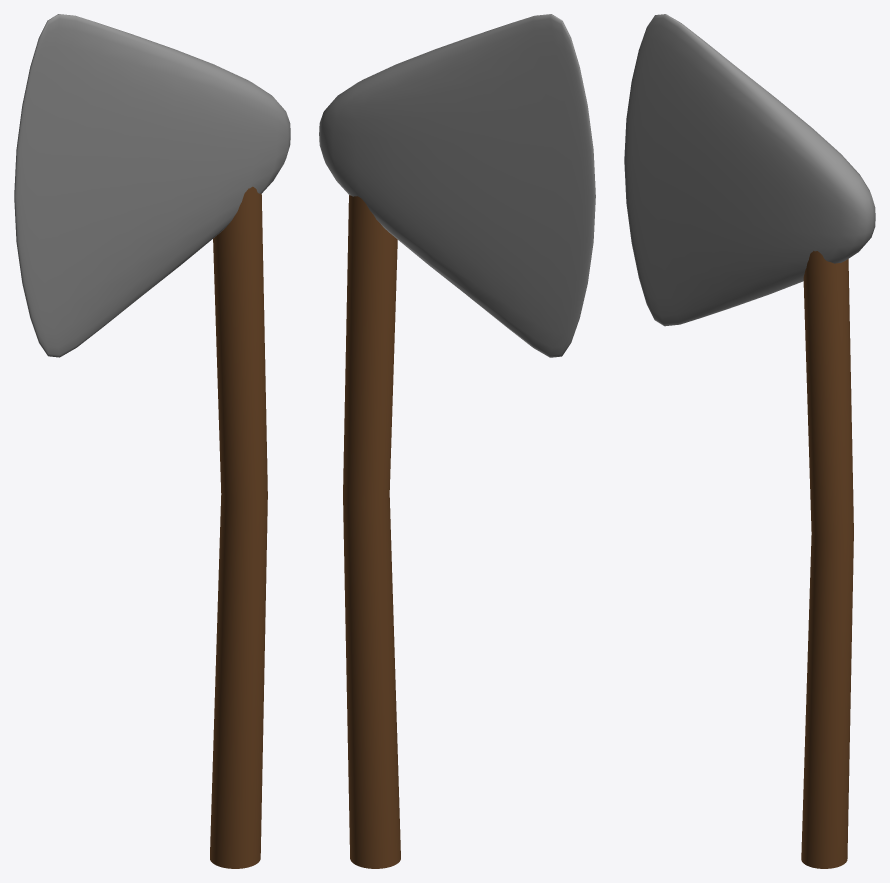
The model's file is axe.glb.
3 renders of one model, left to right at view 1: azimuth 30°, elevation 25°; view 2: azimuth 150°, elevation 25°; view 3: azimuth 330°, elevation 25°, orthographic. The views are drawn at different scales.
Parts seen in each view (by area): view 1: Cube.015, Cylinder.003; view 2: Cube.015, Cylinder.003; view 3: Cube.015, Cylinder.003.
Part boxes in pixels (x1,y1,x2,y2): Cube.015: (14, 14, 290, 357); Cylinder.003: (210, 186, 267, 868); Cube.015: (319, 14, 595, 357); Cylinder.003: (343, 195, 400, 868); Cube.015: (624, 14, 875, 326); Cylinder.003: (801, 251, 853, 868).
Bounding box in the file's own units: 0.2554 × 0.7922 × 0.0445.
